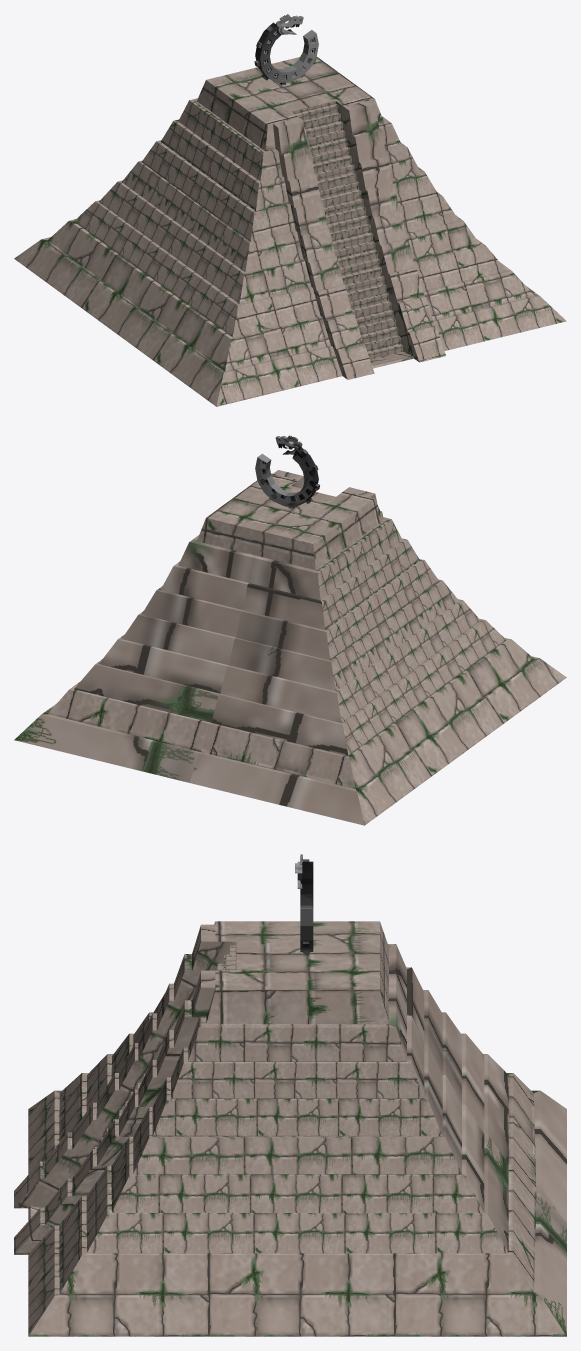
File: Templo_Sol_Intervenido.glb
3 views of the same model, one above another, from view 1: azimuth 30°, elevation 25°; view 2: azimuth 150°, elevation 25°; view 3: azimuth 270°, elevation 25° (orthographic). The views are drawn at different scales.
Visible parts, largest first — view 1: Templo_Base_Serpiente.001, Templo_Sol_Intervenido_Estatua; view 2: Templo_Base_Serpiente.001, Templo_Sol_Intervenido_Estatua; view 3: Templo_Base_Serpiente.001, Templo_Sol_Intervenido_Estatua.
Part boxes in pixels (<box>): Templo_Base_Serpiente.001: <box>14,56,566,406</box>; Templo_Sol_Intervenido_Estatua: <box>254,14,318,85</box>; Templo_Base_Serpiente.001: <box>14,470,566,825</box>; Templo_Sol_Intervenido_Estatua: <box>255,435,319,508</box>; Templo_Base_Serpiente.001: <box>14,921,566,1336</box>; Templo_Sol_Intervenido_Estatua: <box>295,854,313,955</box>.
Bounding box in the file's own units: 80.08 × 60.38 × 82.2.
2 materials, 2 textured.
